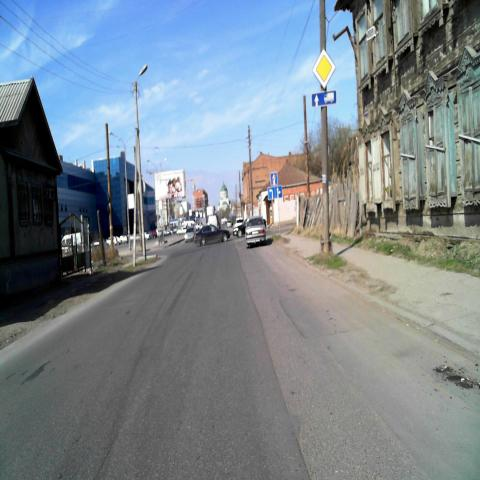6_15_1: (312, 90, 336, 107)
